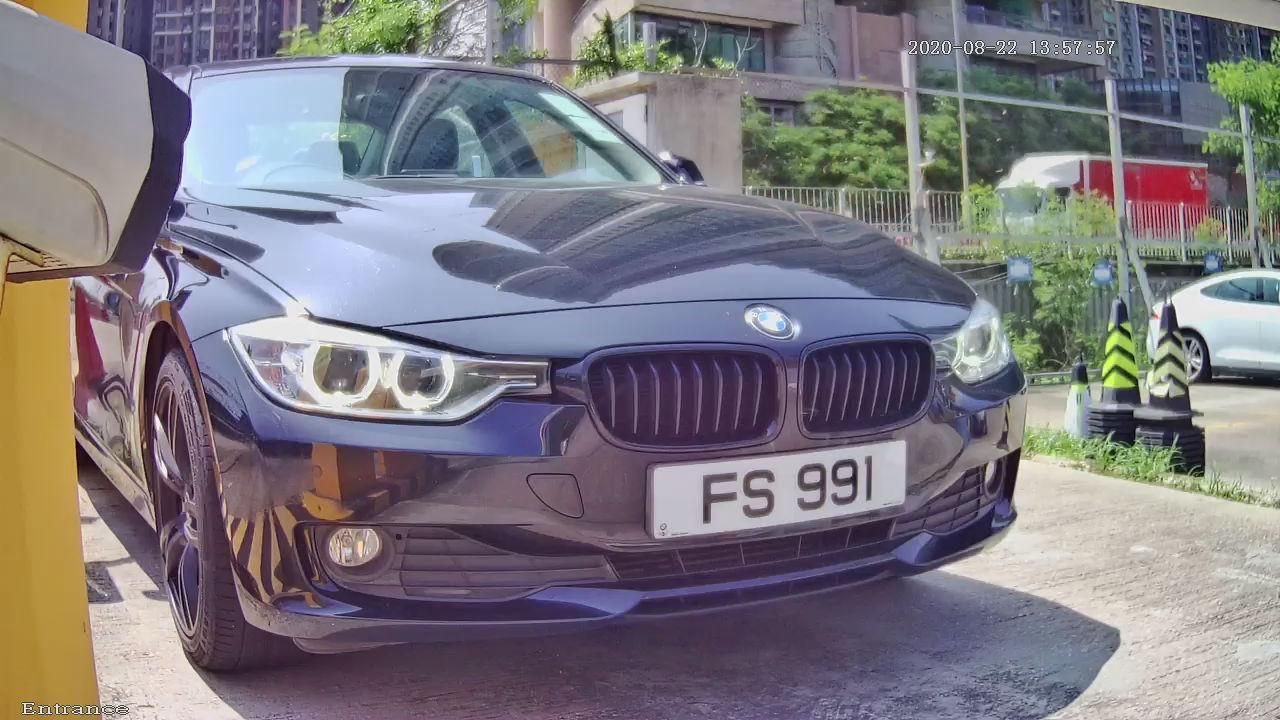Car: (29, 20, 1115, 698)
License Plate: (614, 404, 958, 573)
